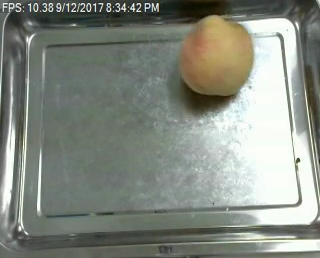Peach: (178, 16, 254, 96)
